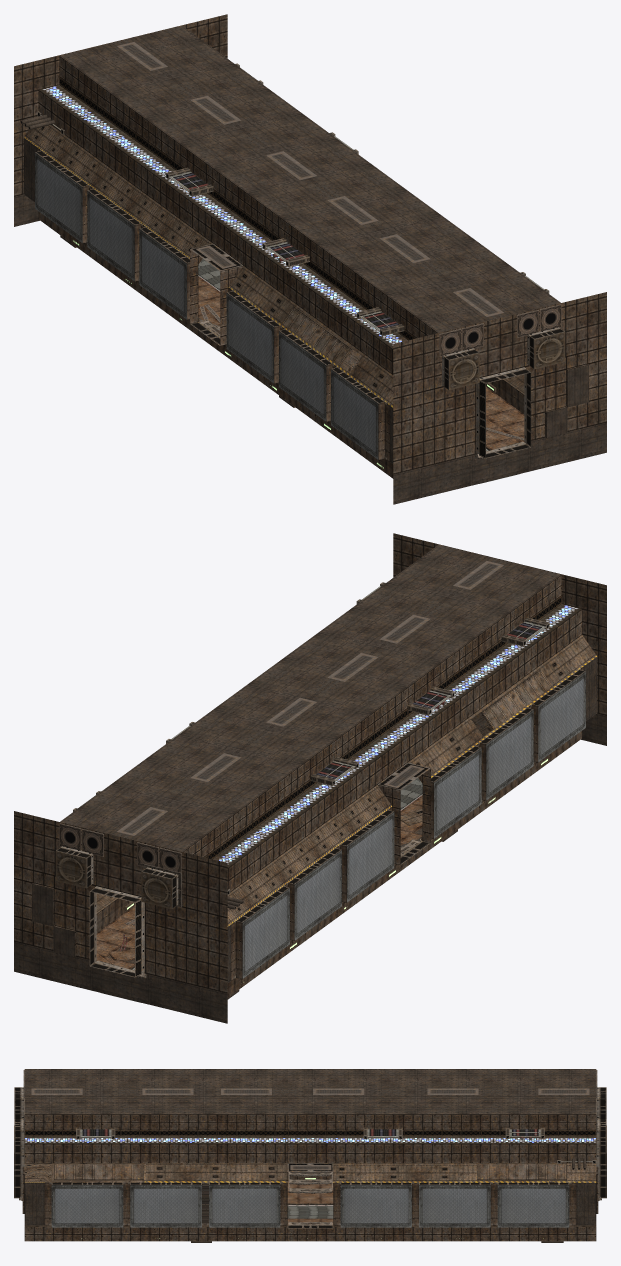
Rendered from corridor2.fbx.
The picture shows the model from 3 angles, top to bottom: view 1: azimuth 30°, elevation 25°; view 2: azimuth 150°, elevation 25°; view 3: azimuth 270°, elevation 25°; orthographic projection. The views are drawn at different scales.
Parts seen in each view (by area): view 1: Mesh; view 2: Mesh; view 3: Mesh.
Boxes of the visible parts, box(x1,y1,x2,y2) form: Mesh: box(14, 14, 606, 504); Mesh: box(14, 533, 606, 1023); Mesh: box(14, 1069, 606, 1242).
Size of the model in its own units: 520 by 394 by 1659.
